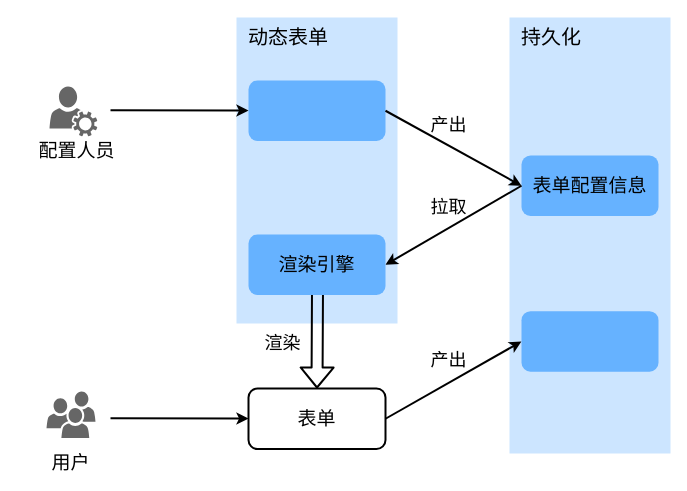
The diagram is 687 pixels wide and 491 high, and some of its shapes have lost their labels. Each missing label, with the centre of its shape:
"表单填写内容" belongs at pixel 589 341.
"配置工厂" belongs at pixel 316 110.
